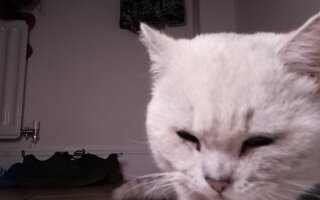bad: (136, 12, 317, 198)
